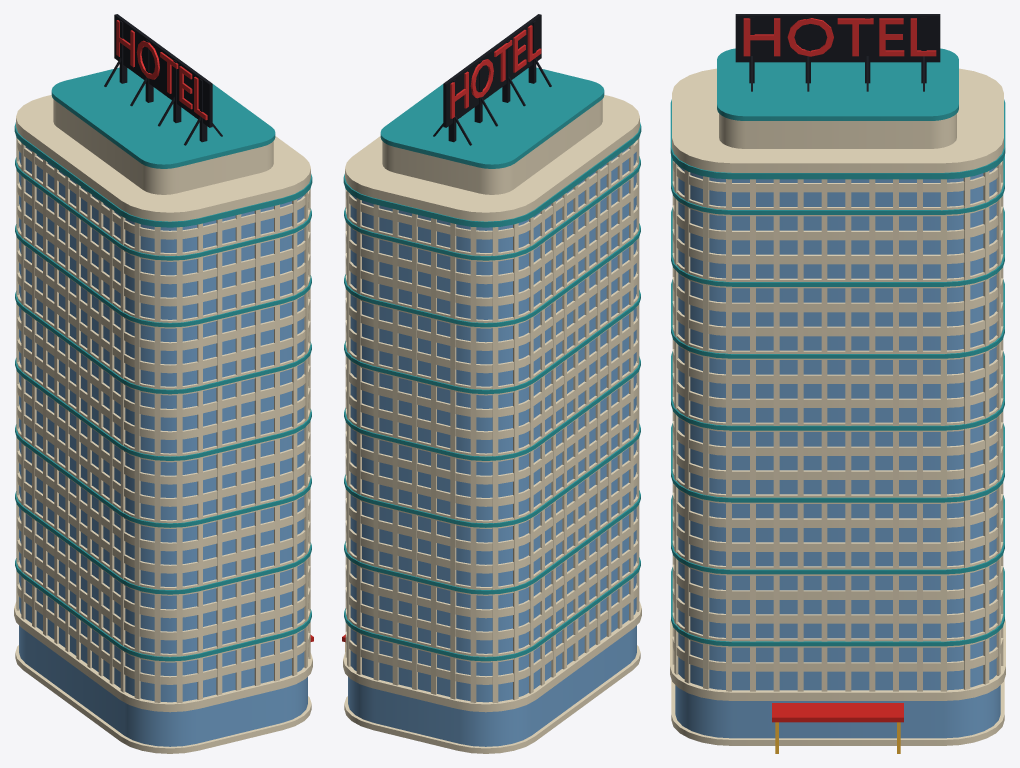
The model's file is Skyline_Hotel.fbx.
3 views of the same model, side by side, from view 1: azimuth 30°, elevation 25°; view 2: azimuth 150°, elevation 25°; view 3: azimuth 270°, elevation 25° (orthographic). The views are drawn at different scales.
Parts seen in each view (by area): view 1: Cream.001, Window.008, Teal.002, Dark.008, Red.002; view 2: Cream.001, Window.008, Teal.002, Dark.008, Red.002; view 3: Cream.001, Window.008, Teal.002, Dark.008, Red.002, Accent.002.
Boxes of the visible parts, x1,y1,x2,y2 form: Cream.001: (14,95,312,753); Window.008: (19,146,307,746); Teal.002: (14,67,312,661); Dark.008: (104,14,222,145); Red.002: (116,20,207,120); Cream.001: (343,95,641,753); Window.008: (348,142,636,746); Teal.002: (343,67,641,661); Dark.008: (433,14,551,145); Red.002: (450,25,541,118); Cream.001: (670,68,1005,745); Window.008: (675,166,1000,738); Teal.002: (670,48,1005,646); Dark.008: (735,14,940,91); Red.002: (743,18,936,56); Accent.002: (772,703,903,722).
Size of the model in its own units: 39.9 by 114 by 50.8.
